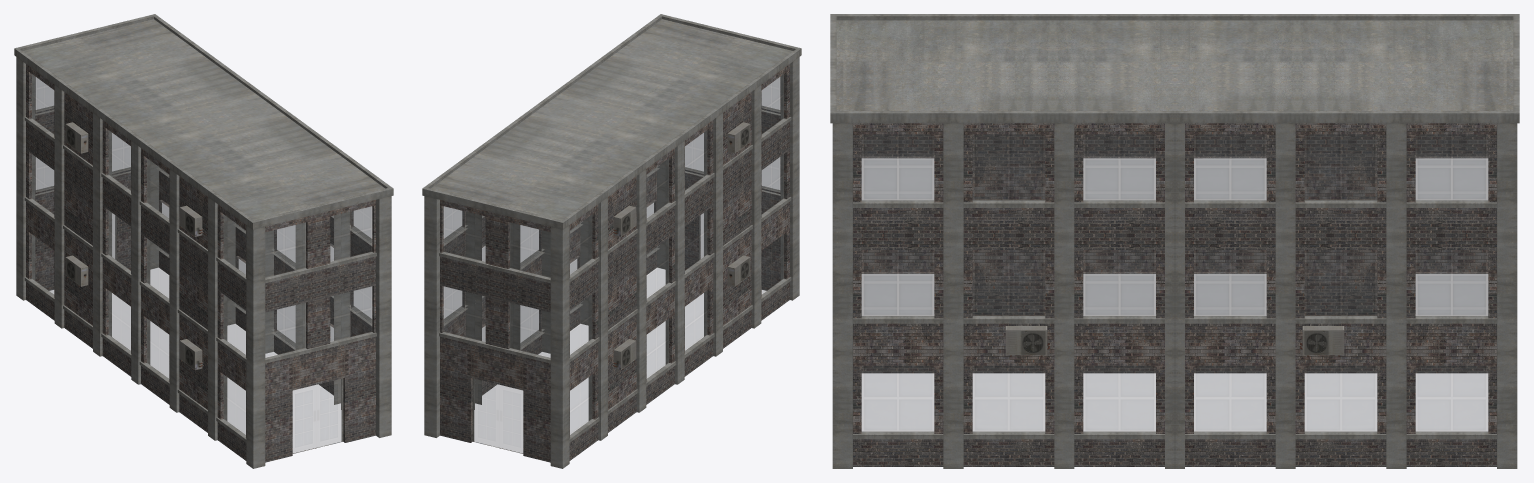
The model's file is apartment_hp.fbx.
3 views of the same model, side by side, from view 1: azimuth 30°, elevation 25°; view 2: azimuth 150°, elevation 25°; view 3: azimuth 270°, elevation 25° (orthographic). The views are drawn at different scales.
Visible parts, largest first — view 1: apartment_hp; view 2: apartment_hp; view 3: apartment_hp.
Part boxes in pixels (x1,y1,x2,y2): apartment_hp: [14, 14, 393, 468]; apartment_hp: [422, 14, 801, 468]; apartment_hp: [830, 14, 1519, 468].
Bounding box in the file's own units: 63.27 × 22.53 × 36.11.
